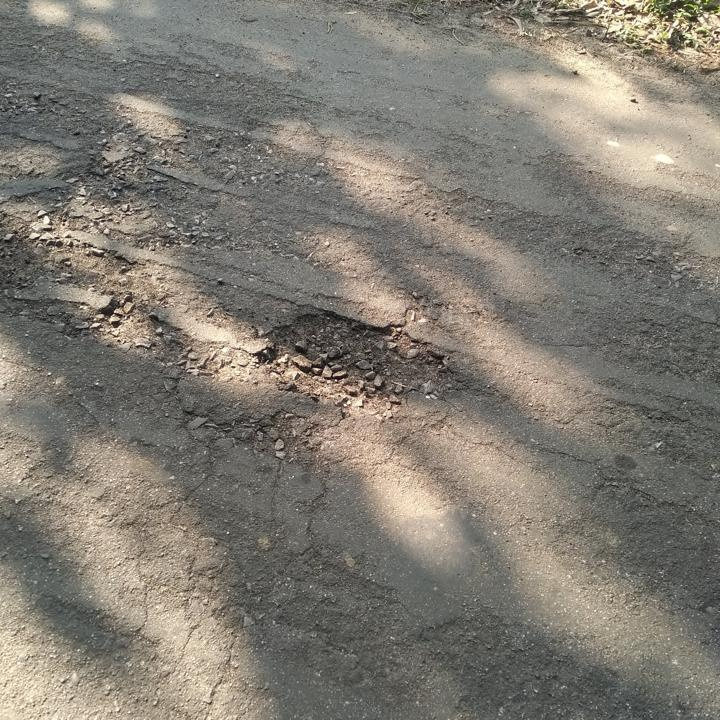pothole: (255, 305, 461, 411)
